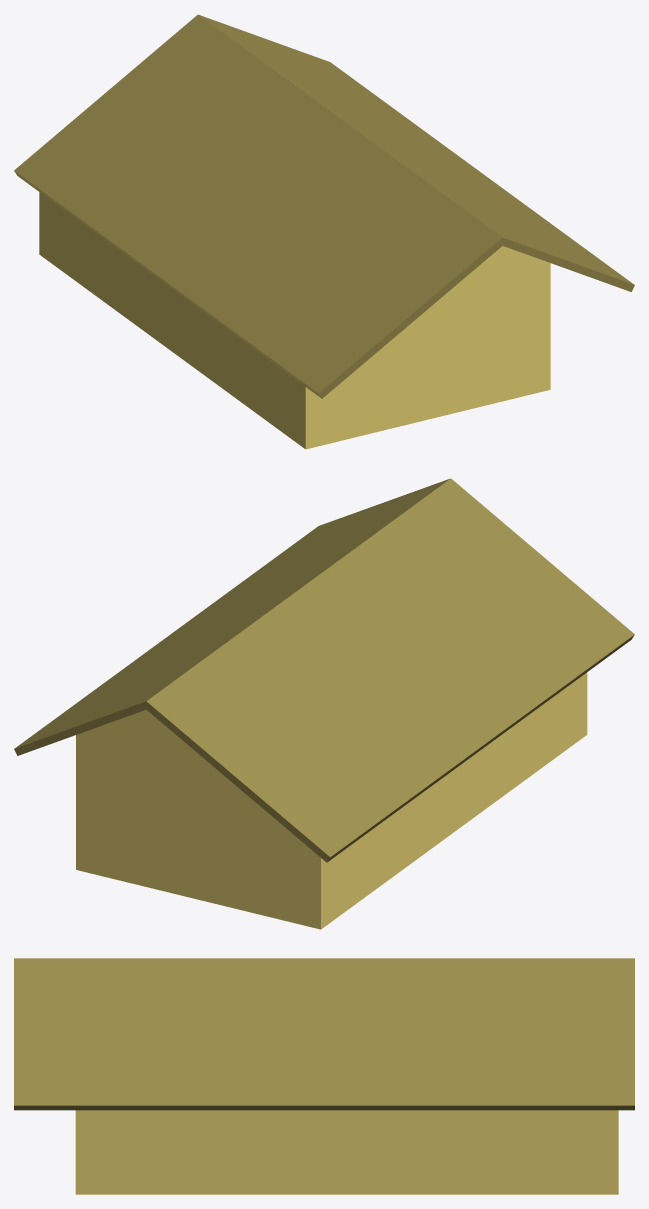
File: result.glb
The picture shows the model from 3 angles, top to bottom: view 1: azimuth 30°, elevation 25°; view 2: azimuth 150°, elevation 25°; view 3: azimuth 270°, elevation 25°; orthographic projection.
Visible parts, largest first — view 1: ecc5068e-23e5-448c-8af2-77481d0cd8aa__undefined (×2), 0f67949b-1eec-40e9-a8b0-8daff48119e0__undefined; view 2: ecc5068e-23e5-448c-8af2-77481d0cd8aa__undefined (×2), 0f67949b-1eec-40e9-a8b0-8daff48119e0__undefined; view 3: ecc5068e-23e5-448c-8af2-77481d0cd8aa__undefined, 0f67949b-1eec-40e9-a8b0-8daff48119e0__undefined.
Boxes of the visible parts, box(x1,y1,x2,y2) form: ecc5068e-23e5-448c-8af2-77481d0cd8aa__undefined (×2): box(14, 14, 634, 398); 0f67949b-1eec-40e9-a8b0-8daff48119e0__undefined: box(39, 192, 550, 449); ecc5068e-23e5-448c-8af2-77481d0cd8aa__undefined (×2): box(14, 478, 634, 862); 0f67949b-1eec-40e9-a8b0-8daff48119e0__undefined: box(76, 672, 587, 929); ecc5068e-23e5-448c-8af2-77481d0cd8aa__undefined: box(14, 958, 634, 1110); 0f67949b-1eec-40e9-a8b0-8daff48119e0__undefined: box(75, 1110, 618, 1194).
Bounding box in the file's own units: 1141 × 667 × 1903.
